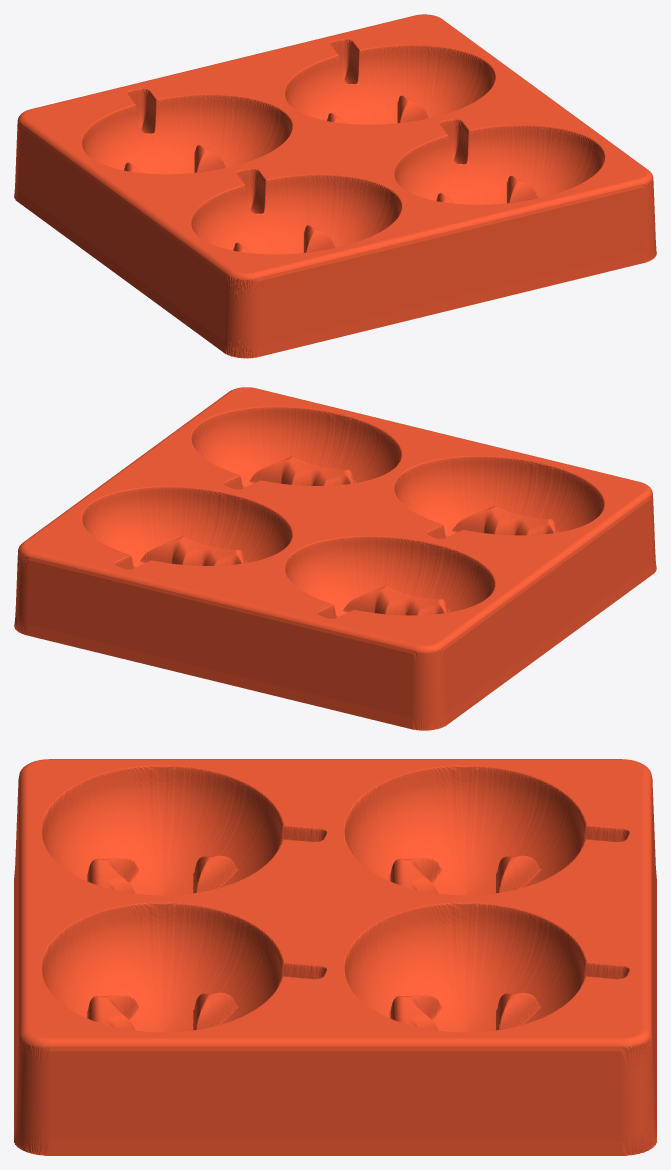
File: mold.glb
3 renders of one model, top to bottom at view 1: azimuth 30°, elevation 25°; view 2: azimuth 150°, elevation 25°; view 3: azimuth 270°, elevation 25°, orthographic. The views are drawn at different scales.
Visible parts, largest first — view 1: geometry_0; view 2: geometry_0; view 3: geometry_0.
Part boxes in pixels (bbox=[...]): geometry_0: bbox=[14, 14, 656, 358]; geometry_0: bbox=[14, 387, 656, 730]; geometry_0: bbox=[14, 759, 656, 1155].
Size of the model in its own units: 0.1721 by 0.031 by 0.1613.
